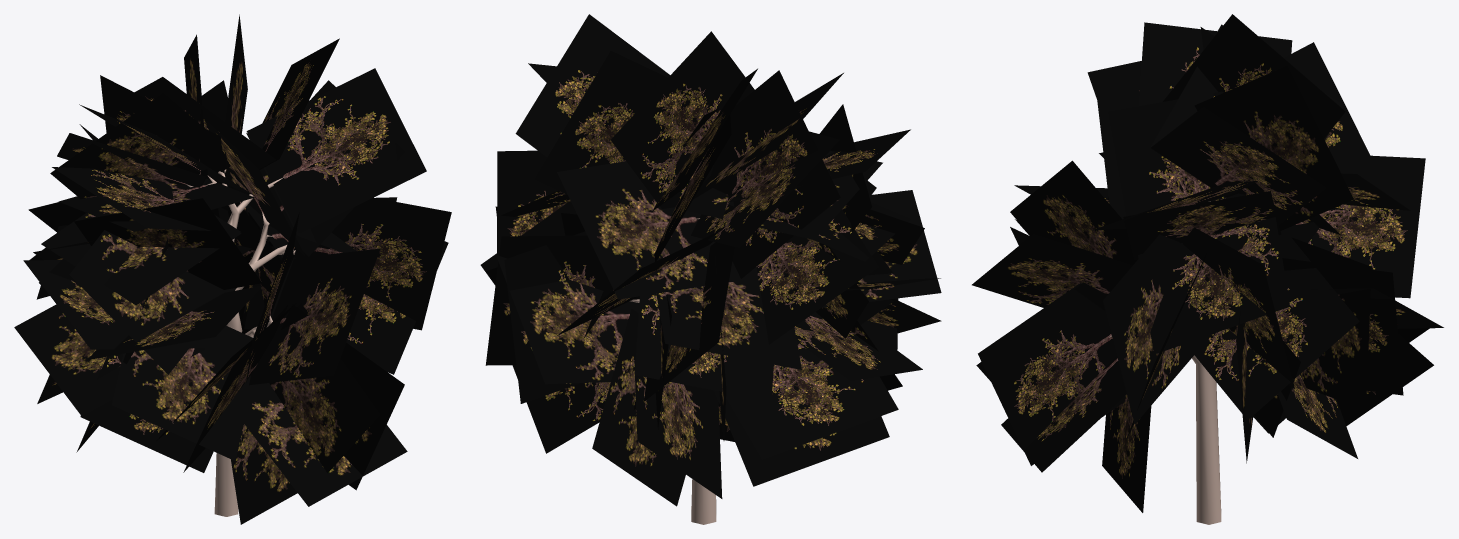
The model's file is tree22.glb.
3 views of the same model, side by side, from view 1: azimuth 30°, elevation 25°; view 2: azimuth 150°, elevation 25°; view 3: azimuth 270°, elevation 25° (orthographic). The views are drawn at different scales.
Size of the model in its own units: 6.17 by 7.3 by 6.32.
2 materials, 1 textured.
